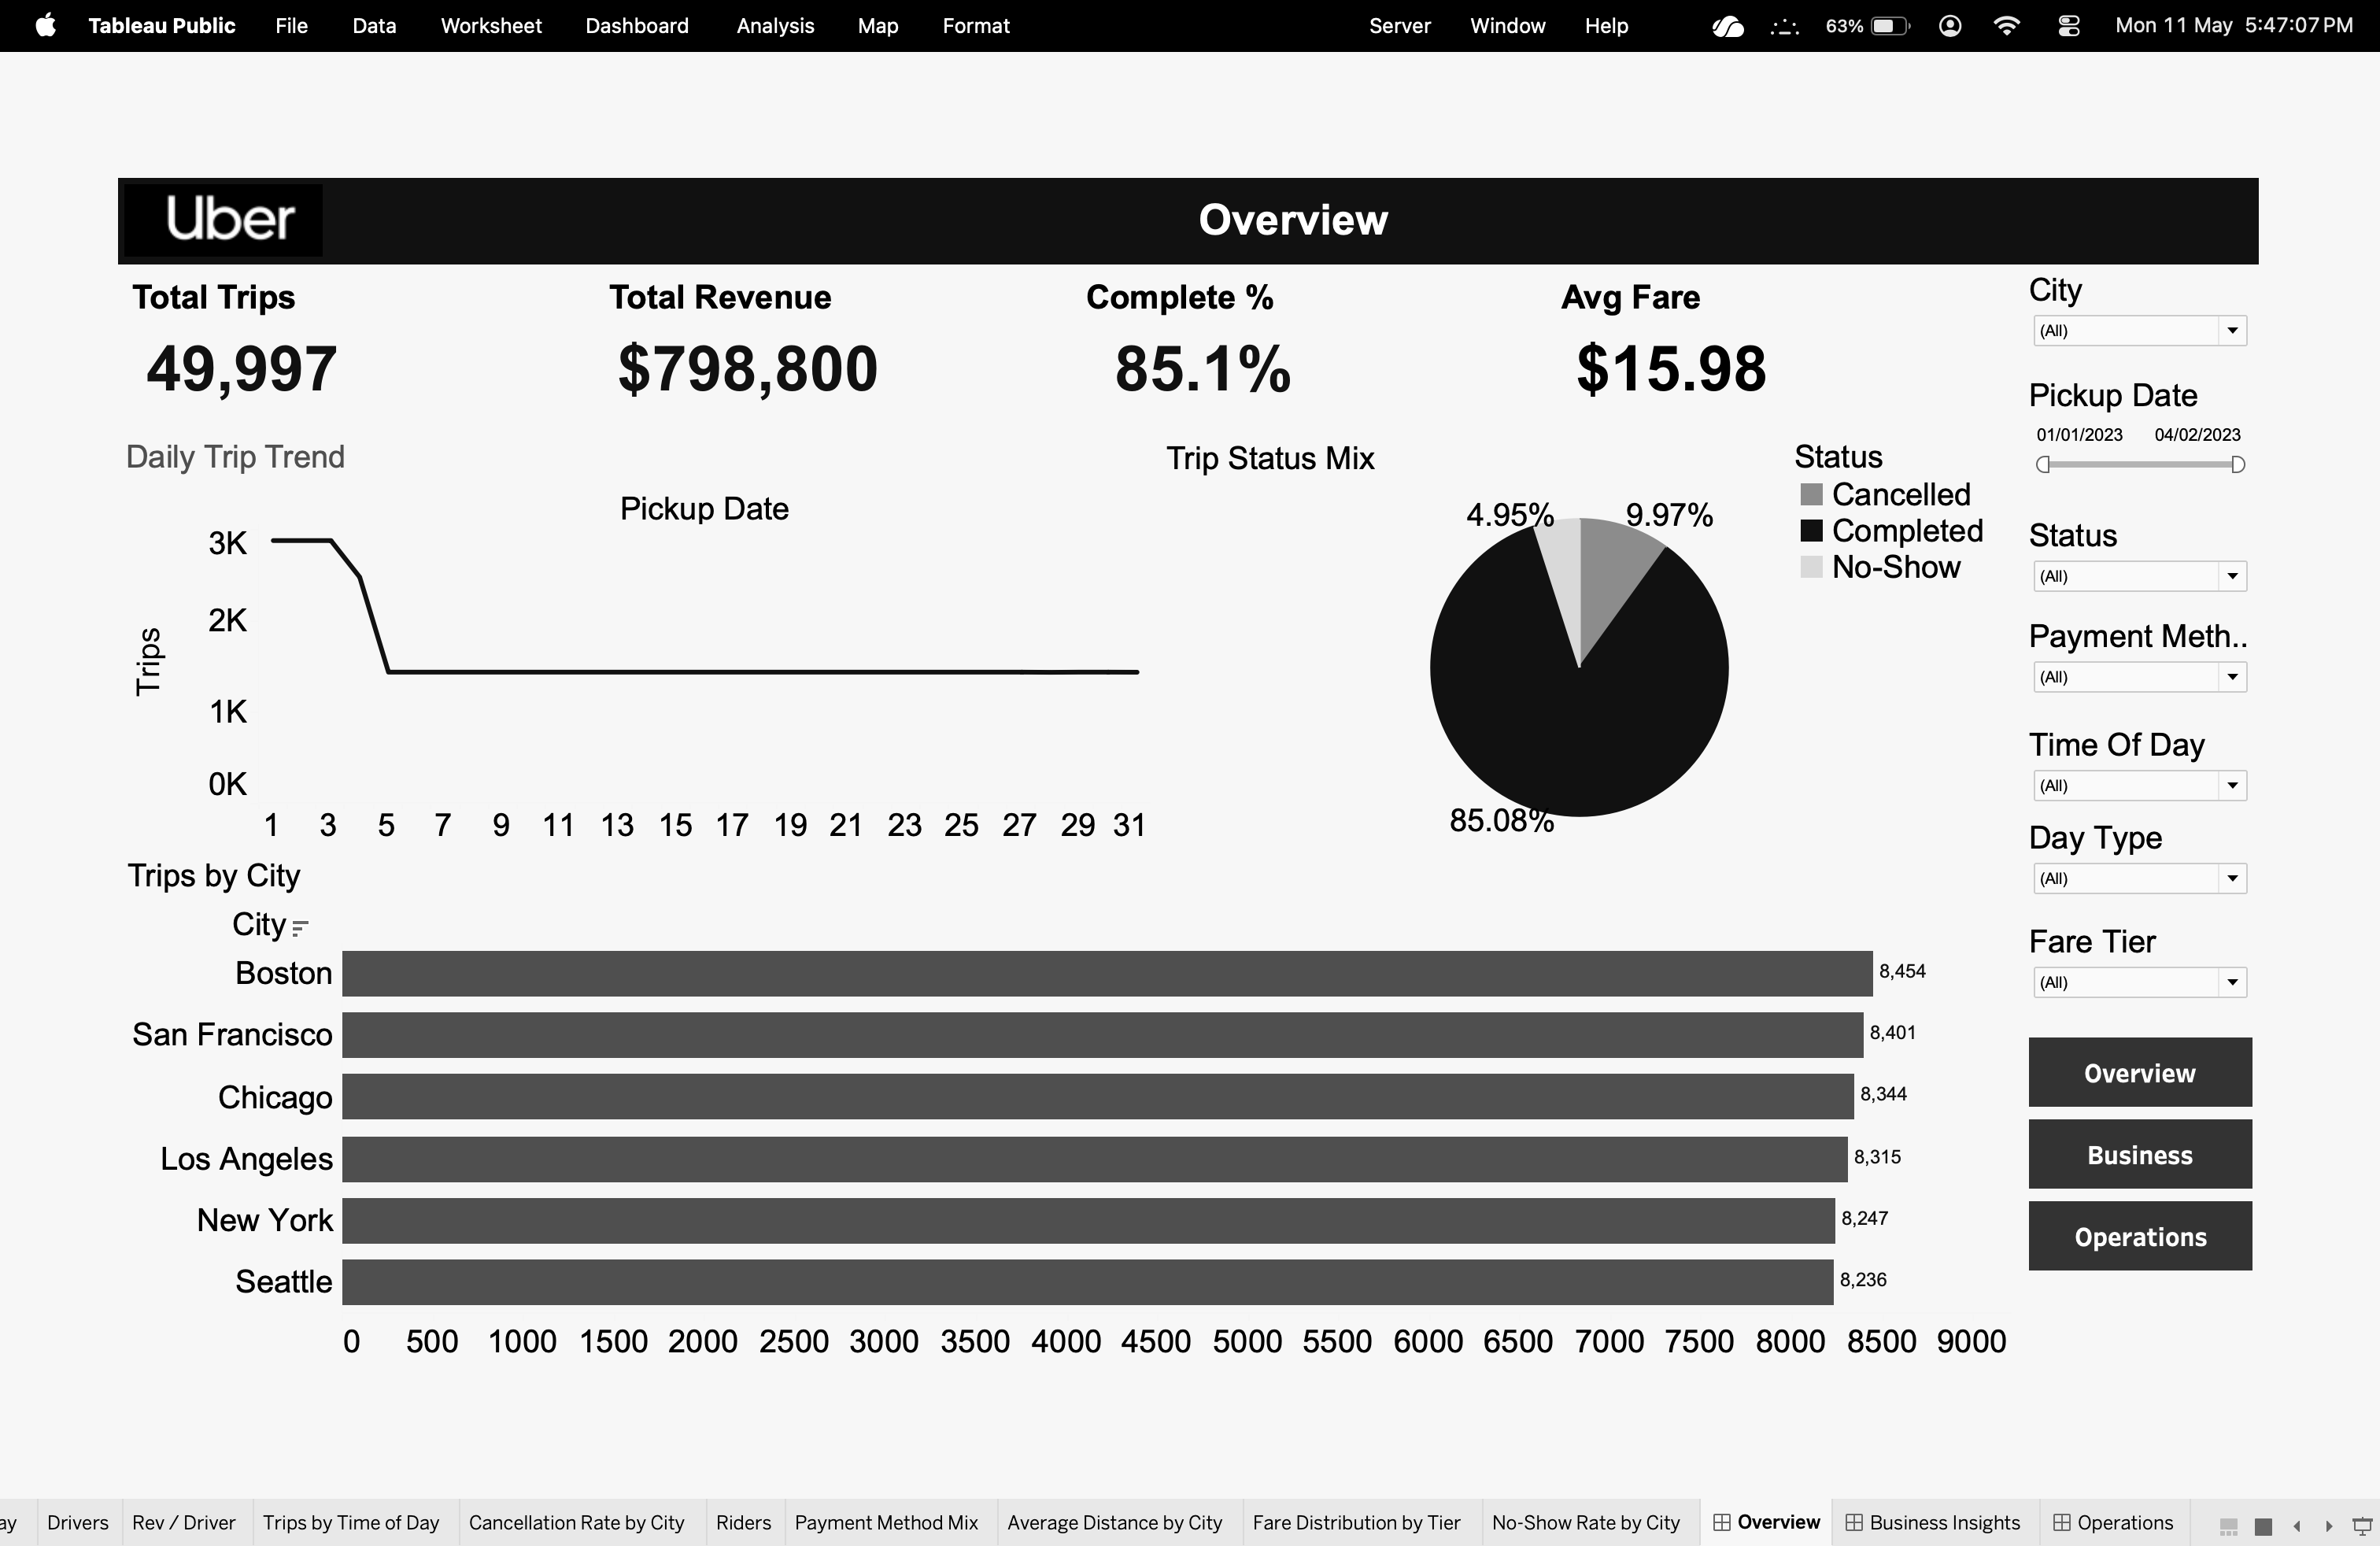

The page's visual inventory and layout, read from the dashboard file:
{"tool":"tableau","page":{"name":"Overview","canvas":[1366,768],"ordinal":2},"visuals":[{"type":"image","param":"Image/Screenshot 2026-03-15 at 1.22.16 PM.png","box":[2,5,134,55]},{"type":"text","box":[136,5,1226,55]},{"type":"worksheet","title":"Total Trips","mark":"Text","box":[3,61,303,100]},{"type":"worksheet","title":"Total Revenue","mark":"Text","box":[306,61,303,100]},{"type":"worksheet","title":"Complete %","mark":"Text","box":[609,61,302,100]},{"type":"worksheet","title":"Avg Fare","mark":"Text","box":[911,61,302,100]},{"type":"filter","title":"Filters","param":"[federated.15wm6x10a793qk11a4zd71k7cxxn].[none:city:nk]","box":[1212,61,150,67]},{"type":"filter","title":"Filters","param":"[federated.15wm6x10a793qk11a4zd71k7cxxn].[none:pickup_date:qk]","box":[1212,128,150,89]},{"type":"worksheet","title":"Daily Trip Trend","mark":"Automatic","rows":["Calculation_2166862616805376"],"cols":["pickup_date"],"box":[3,167,655,262]},{"type":"worksheet","title":"Trip Status Mix","mark":"Pie","box":[664,168,533,258]},{"type":"legend","title":"Trip Status Mix","param":"[federated.15wm6x10a793qk11a4zd71k7cxxn].[none:status:nk]","box":[1067,171,126,96]},{"type":"filter","title":"Filters","param":"[federated.15wm6x10a793qk11a4zd71k7cxxn].[none:status:nk]","box":[1212,217,150,64]},{"type":"filter","title":"Filters","param":"[federated.15wm6x10a793qk11a4zd71k7cxxn].[none:payment_method:nk]","box":[1212,281,150,69]},{"type":"filter","title":"Filters","param":"[federated.15wm6x10a793qk11a4zd71k7cxxn].[none:time_of_day:nk]","box":[1212,350,150,59]},{"type":"filter","title":"Filters","param":"[federated.15wm6x10a793qk11a4zd71k7cxxn].[none:day_type:nk]","box":[1212,409,150,66]},{"type":"worksheet","title":"Trips by City","mark":"Bar","rows":["city"],"cols":["Calculation_2166862616805376"],"box":[4,433,1201,332]},{"type":"filter","title":"Filters","param":"[federated.15wm6x10a793qk11a4zd71k7cxxn].[none:fare_tier:nk]","box":[1212,475,150,72]},{"type":"dashboard-object","box":[1212,547,150,52]},{"type":"dashboard-object","box":[1212,599,150,52]},{"type":"dashboard-object","box":[1212,651,150,52]},{"type":"worksheet","title":"Filters","mark":"Automatic","box":[1253,716,77,47]}]}

Visuals, with their boxes on the page's 1366x768 design canvas (x1, y1, x2, y2). These are canvas units, not pixel positions in the 2380x1546 screenshot, which may show the page scaled, cropped or inside an application window:
image: bbox(2, 5, 136, 60)
text: bbox(136, 5, 1362, 60)
"Total Trips" worksheet (Text marks): bbox(3, 61, 306, 161)
"Total Revenue" worksheet (Text marks): bbox(306, 61, 609, 161)
"Complete %" worksheet (Text marks): bbox(609, 61, 911, 161)
"Avg Fare" worksheet (Text marks): bbox(911, 61, 1213, 161)
"Filters" filter: bbox(1212, 61, 1362, 128)
"Filters" filter: bbox(1212, 128, 1362, 217)
"Daily Trip Trend" worksheet: bbox(3, 167, 658, 429)
"Trip Status Mix" worksheet (Pie marks): bbox(664, 168, 1197, 426)
"Trip Status Mix" legend: bbox(1067, 171, 1193, 267)
"Filters" filter: bbox(1212, 217, 1362, 281)
"Filters" filter: bbox(1212, 281, 1362, 350)
"Filters" filter: bbox(1212, 350, 1362, 409)
"Filters" filter: bbox(1212, 409, 1362, 475)
"Trips by City" worksheet (Bar marks): bbox(4, 433, 1205, 765)
"Filters" filter: bbox(1212, 475, 1362, 547)
dashboard-object: bbox(1212, 547, 1362, 599)
dashboard-object: bbox(1212, 599, 1362, 651)
dashboard-object: bbox(1212, 651, 1362, 703)
"Filters" worksheet: bbox(1253, 716, 1330, 763)
